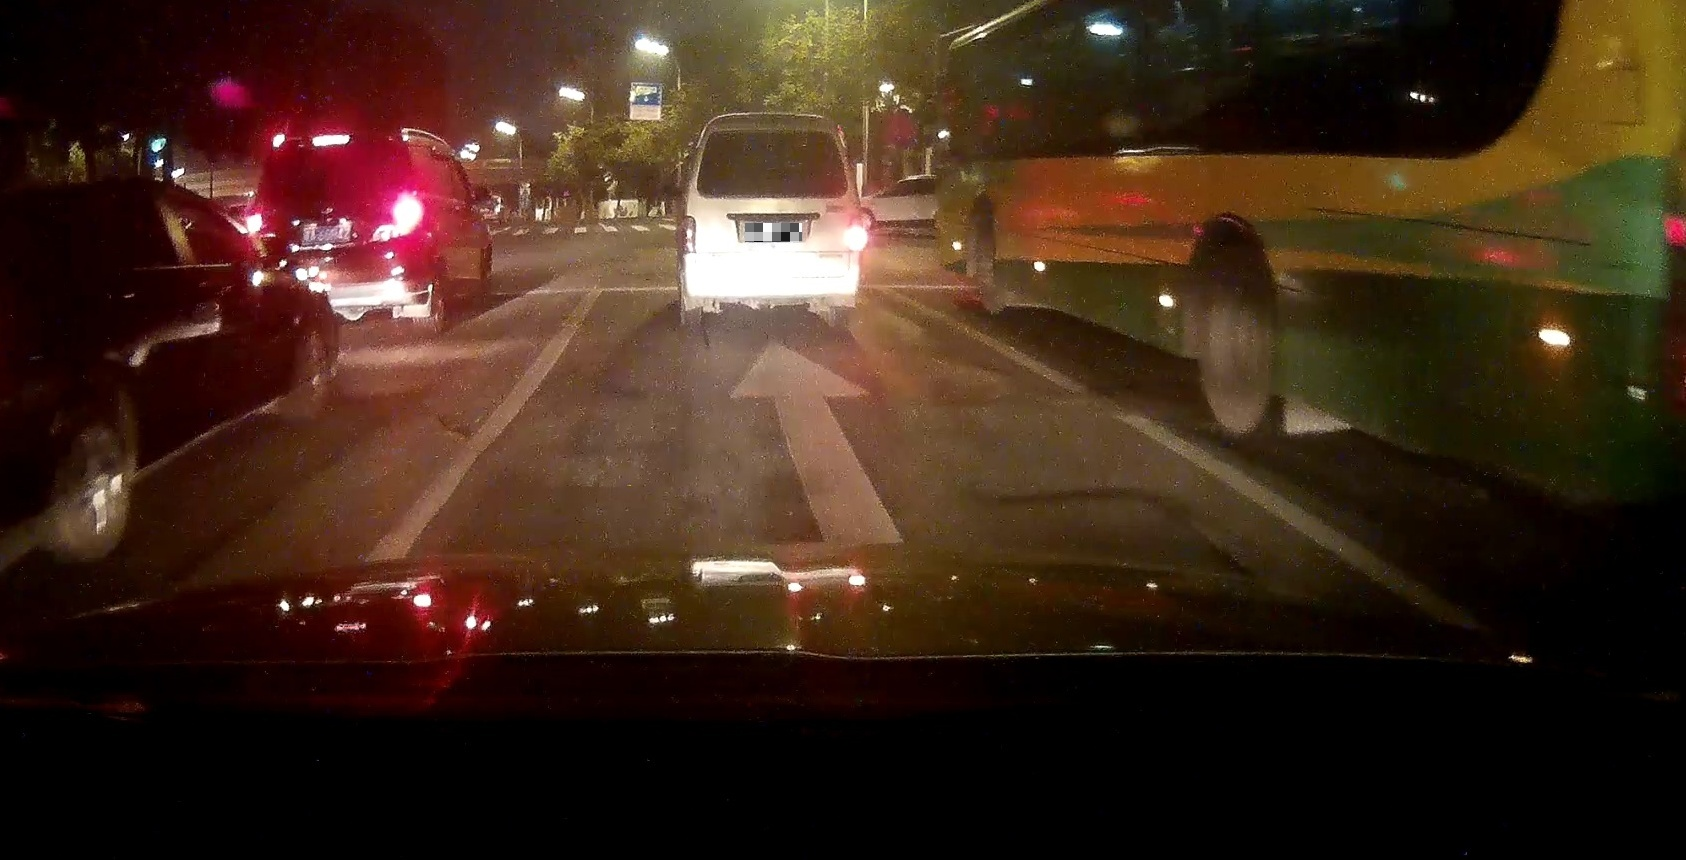L_light: (244, 205, 278, 240), (678, 215, 697, 254)
R_light: (388, 195, 427, 238), (850, 218, 868, 251)
T_light: (310, 135, 352, 148), (760, 129, 788, 139)
night-brake: (244, 128, 434, 341)
night-right: (678, 110, 873, 324)
plate_1: (745, 223, 802, 242)
